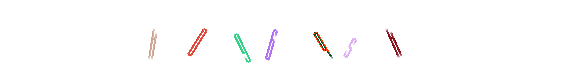0: (198, 0, 278, 80)
6: (242, 0, 322, 80)
G: (203, 0, 283, 80)
K: (138, 0, 218, 80), (354, 0, 434, 80)
Q: (254, 0, 334, 80)
S: (281, 0, 361, 80)
